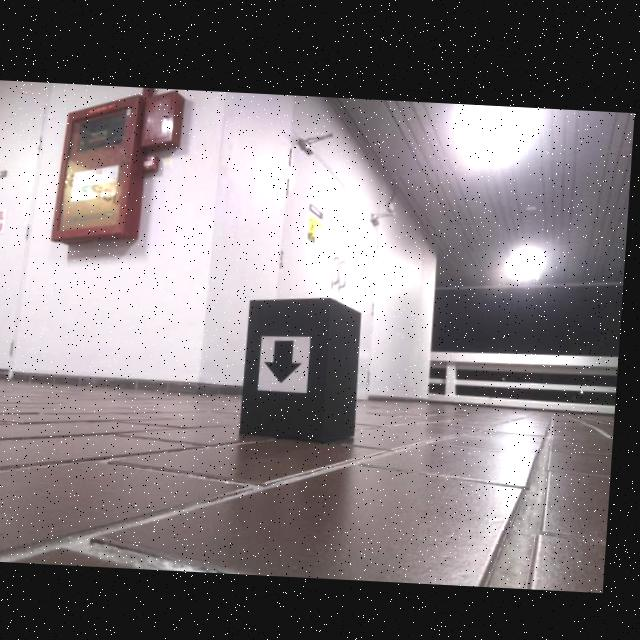DOWN: (268, 337, 308, 382)
